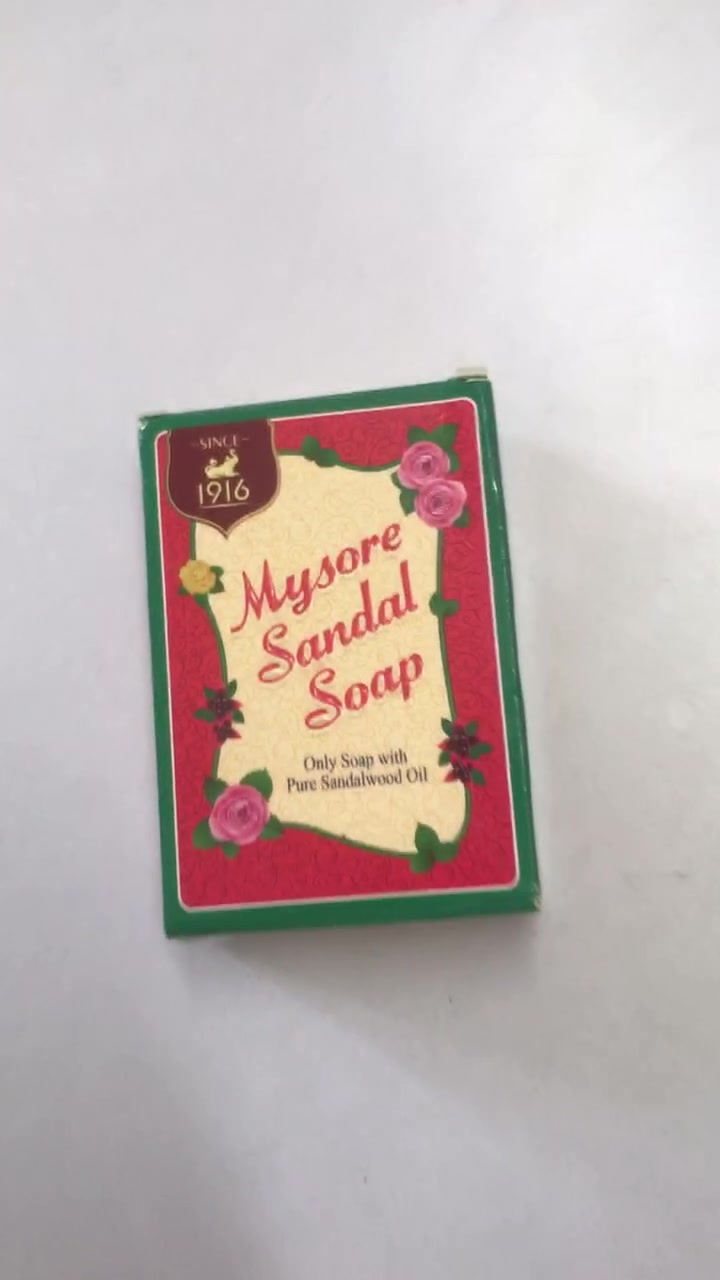mysore sandal soap: (131, 382, 538, 932)
